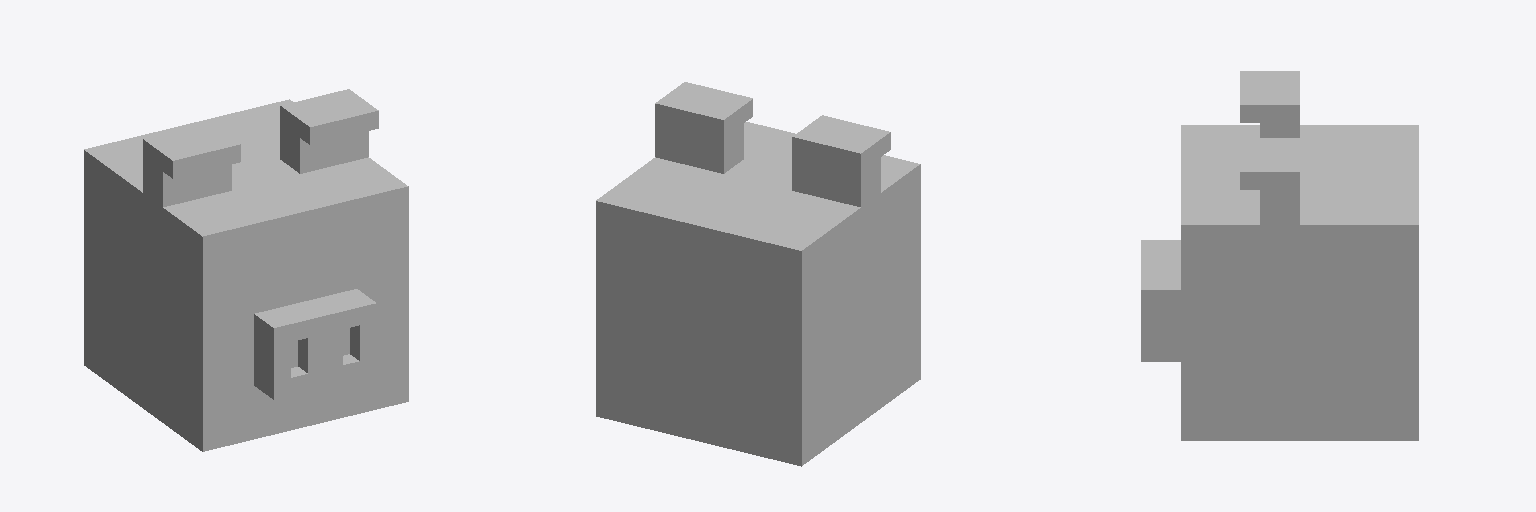
File: pig2.obj
3 views of the same model, side by side, from view 1: azimuth 30°, elevation 25°; view 2: azimuth 150°, elevation 25°; view 3: azimuth 270°, elevation 25° (orthographic).
Visible parts, largest first — view 1: pig2; view 2: pig2; view 3: pig2.
Part boxes in pixels (bbox=[...]): pig2: bbox=[84, 89, 408, 451]; pig2: bbox=[596, 82, 920, 466]; pig2: bbox=[1141, 71, 1418, 440].
Bounding box in the file's own units: 12 × 15 × 14.